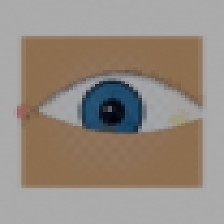pinguecula_lesion: (157, 103, 201, 138)
